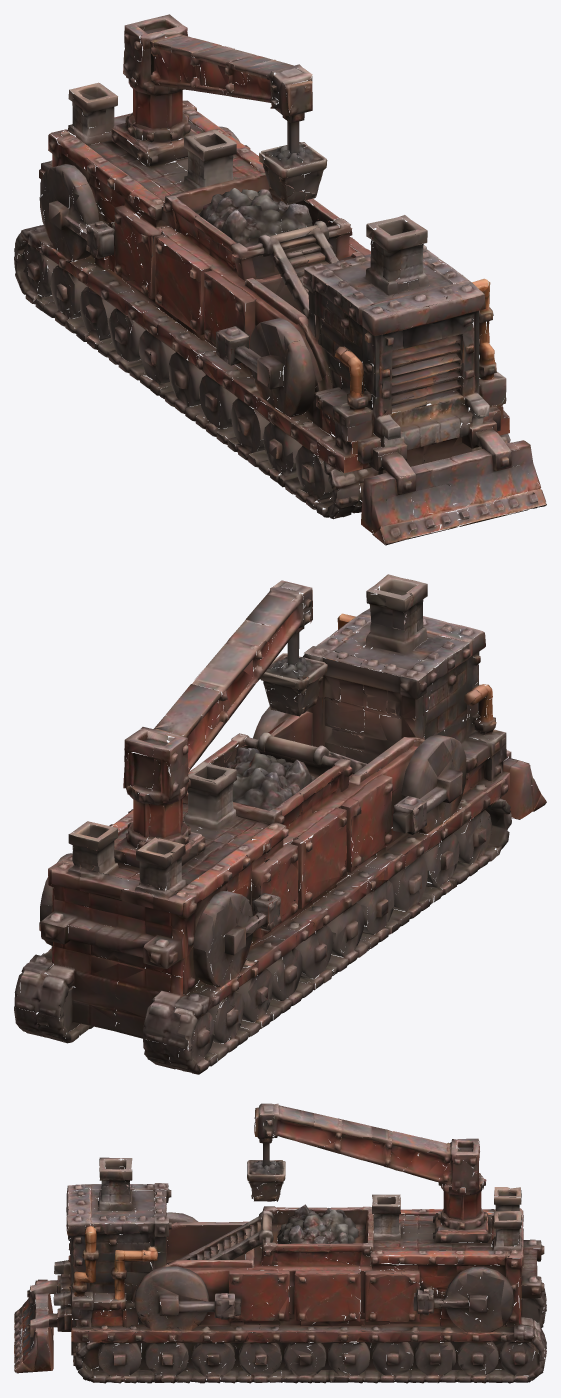
Rendered from wforge.glb.
3 views of the same model, one above another, from view 1: azimuth 30°, elevation 25°; view 2: azimuth 150°, elevation 25°; view 3: azimuth 270°, elevation 25° (orthographic). The views are drawn at different scales.
Visible parts, largest first — view 1: tripo_node_cba339d7-49e9-4805-b3bf-4ba551cb8d2a; view 2: tripo_node_cba339d7-49e9-4805-b3bf-4ba551cb8d2a; view 3: tripo_node_cba339d7-49e9-4805-b3bf-4ba551cb8d2a.
Boxes of the visible parts, x1,y1,x2,y2 form: tripo_node_cba339d7-49e9-4805-b3bf-4ba551cb8d2a: (14,14,546,545); tripo_node_cba339d7-49e9-4805-b3bf-4ba551cb8d2a: (14,574,546,1074); tripo_node_cba339d7-49e9-4805-b3bf-4ba551cb8d2a: (14,1103,546,1383).
Bounding box in the file's own units: 0.3094 × 0.5002 × 0.9789.
Materials: 1 (1 with a texture image).
